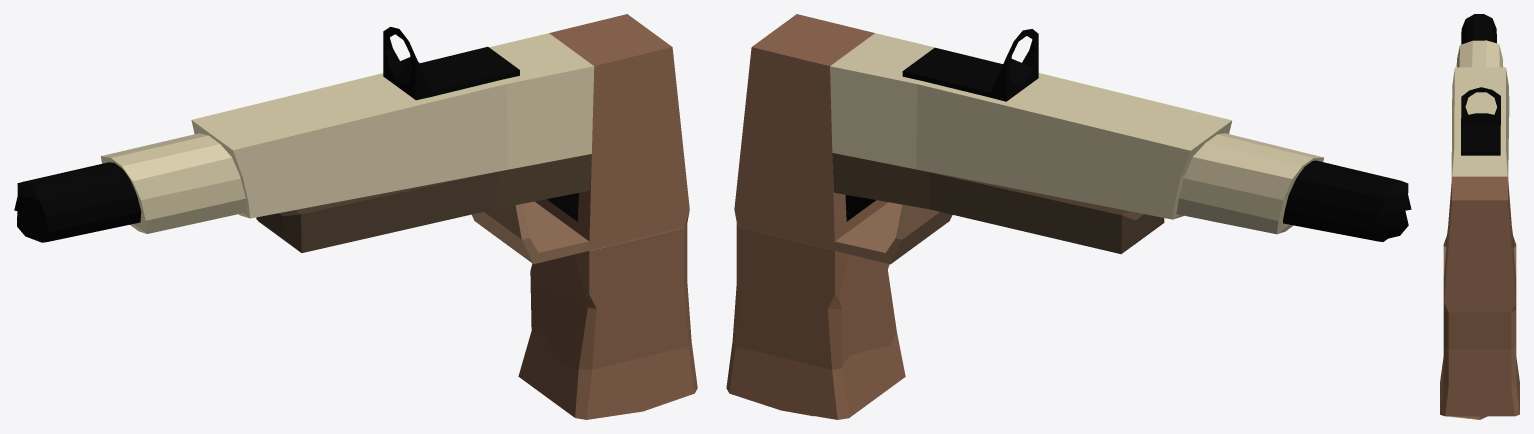
The model's file is PistolaConMaterial.fbx.
3 views of the same model, side by side, from view 1: azimuth 30°, elevation 25°; view 2: azimuth 150°, elevation 25°; view 3: azimuth 270°, elevation 25° (orthographic). The views are drawn at different scales.
Visible parts, largest first — view 1: Mango, ParteAbajo.001, ParteAbajo, ParteAbajo.003, ParteAbajo.002, Mirilla; view 2: Mango, ParteAbajo.001, ParteAbajo, ParteAbajo.003, ParteAbajo.002, Mirilla; view 3: Mango, ParteAbajo.001, Mirilla, ParteAbajo.003, ParteAbajo.002.
Part boxes in pixels (box(x1,y1,x2,y2)): Mango: box(472, 14, 697, 419); ParteAbajo.001: box(191, 33, 594, 218); ParteAbajo: box(256, 154, 591, 252); ParteAbajo.003: box(100, 133, 245, 233); ParteAbajo.002: box(14, 162, 141, 242); Mirilla: box(383, 26, 519, 100); Mango: box(726, 14, 952, 419); ParteAbajo.001: box(830, 33, 1232, 219); ParteAbajo: box(832, 153, 1164, 254); ParteAbajo.003: box(1176, 133, 1323, 234); ParteAbajo.002: box(1283, 160, 1411, 241); Mirilla: box(902, 29, 1038, 101); Mango: box(1440, 176, 1519, 419); ParteAbajo.001: box(1449, 67, 1510, 212); Mirilla: box(1461, 87, 1500, 155); ParteAbajo.003: box(1456, 40, 1503, 67); ParteAbajo.002: box(1461, 14, 1496, 44).
Size of the model in its own units: 145 by 92.52 by 24.85.
